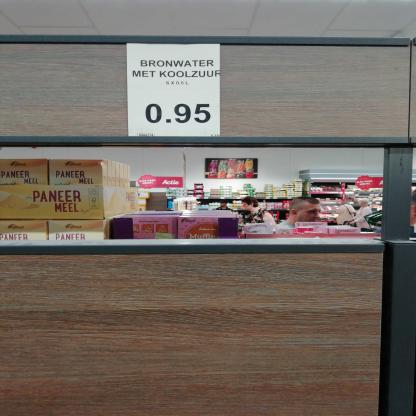prtg: (127, 44, 222, 139)
